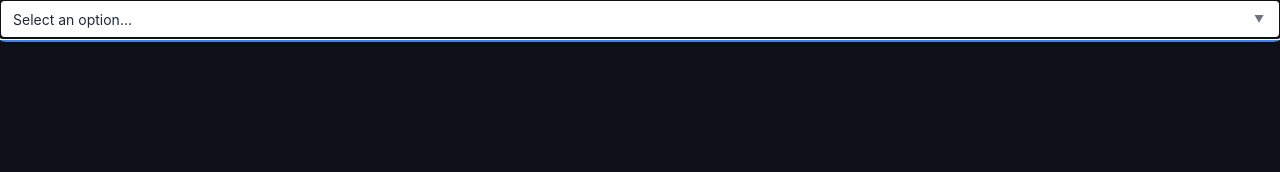
Test: UIForgeComboBox › Search/Filter › filters options by search text
Press Arrowdown
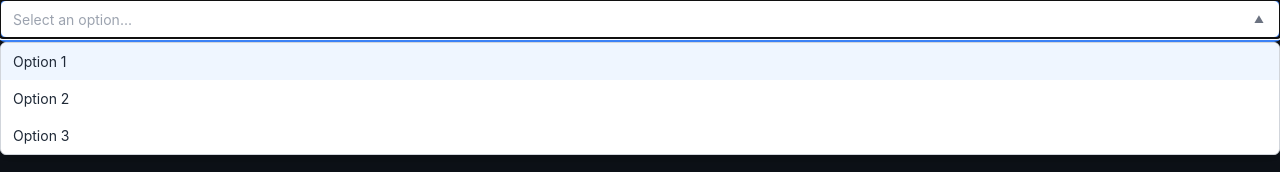
Result: the list is shown
In the field: (628, 19) [13,10,1243,28], type "2"
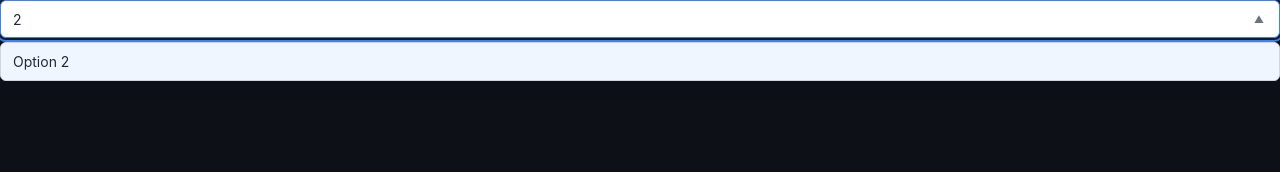
Result: the text "Option 2" is shown at [13,53,69,70]
Result: the option "Option 1" is gone
Result: the option "Option 3" is gone
